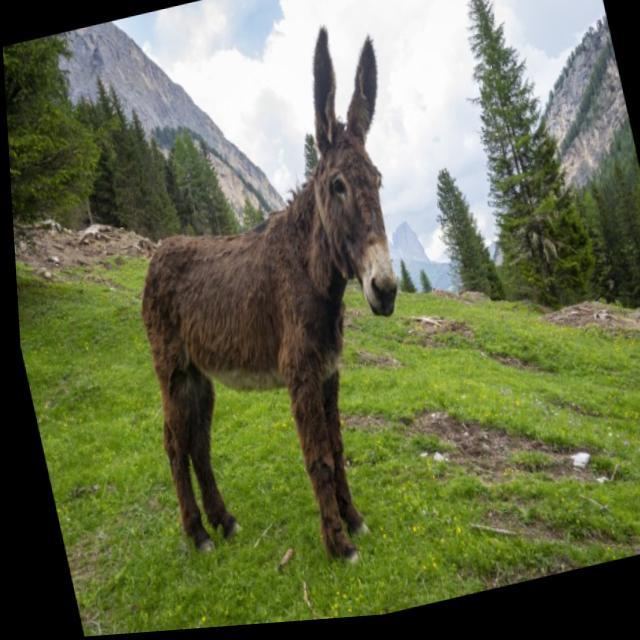Donkey: (73, 14, 509, 614), (261, 7, 441, 353)
